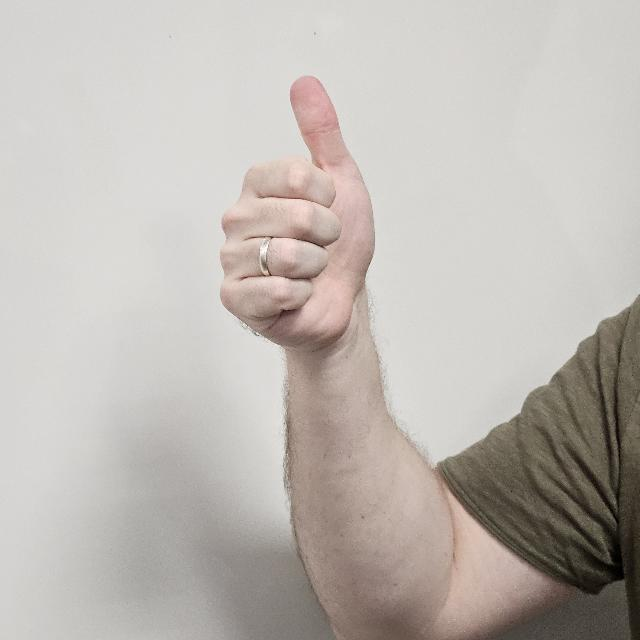Start: (220, 68, 388, 374)
